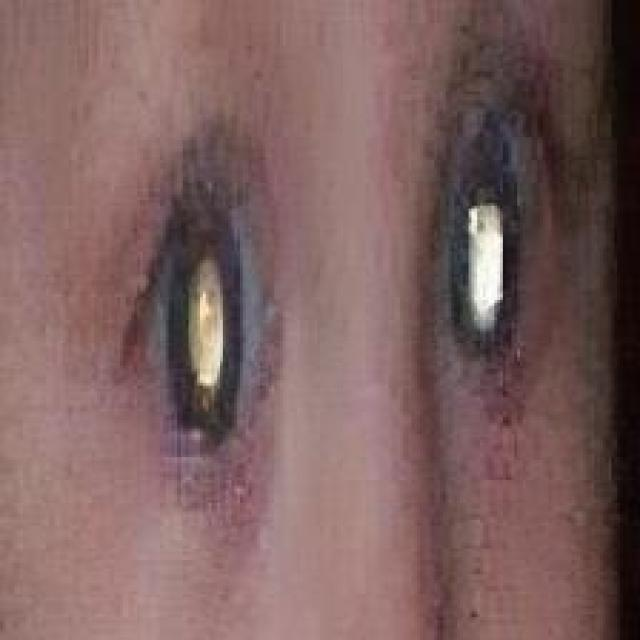reflexo-alterado: (412, 96, 574, 365), (121, 184, 273, 444)
